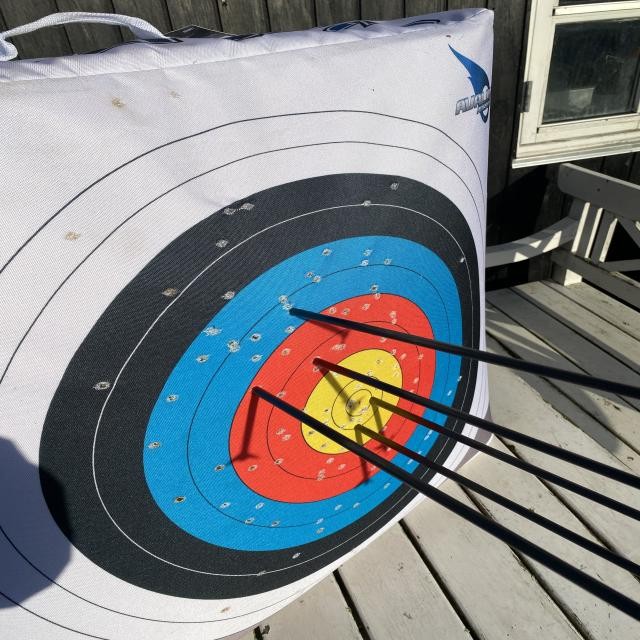Arrow_Blue: (272, 292, 346, 333)
Arrow_Red: (233, 374, 289, 420), (300, 345, 358, 382)
Arrow_Yellow: (331, 415, 398, 451), (349, 385, 393, 417)
